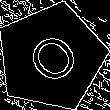O_SE: (18, 24, 85, 90)
